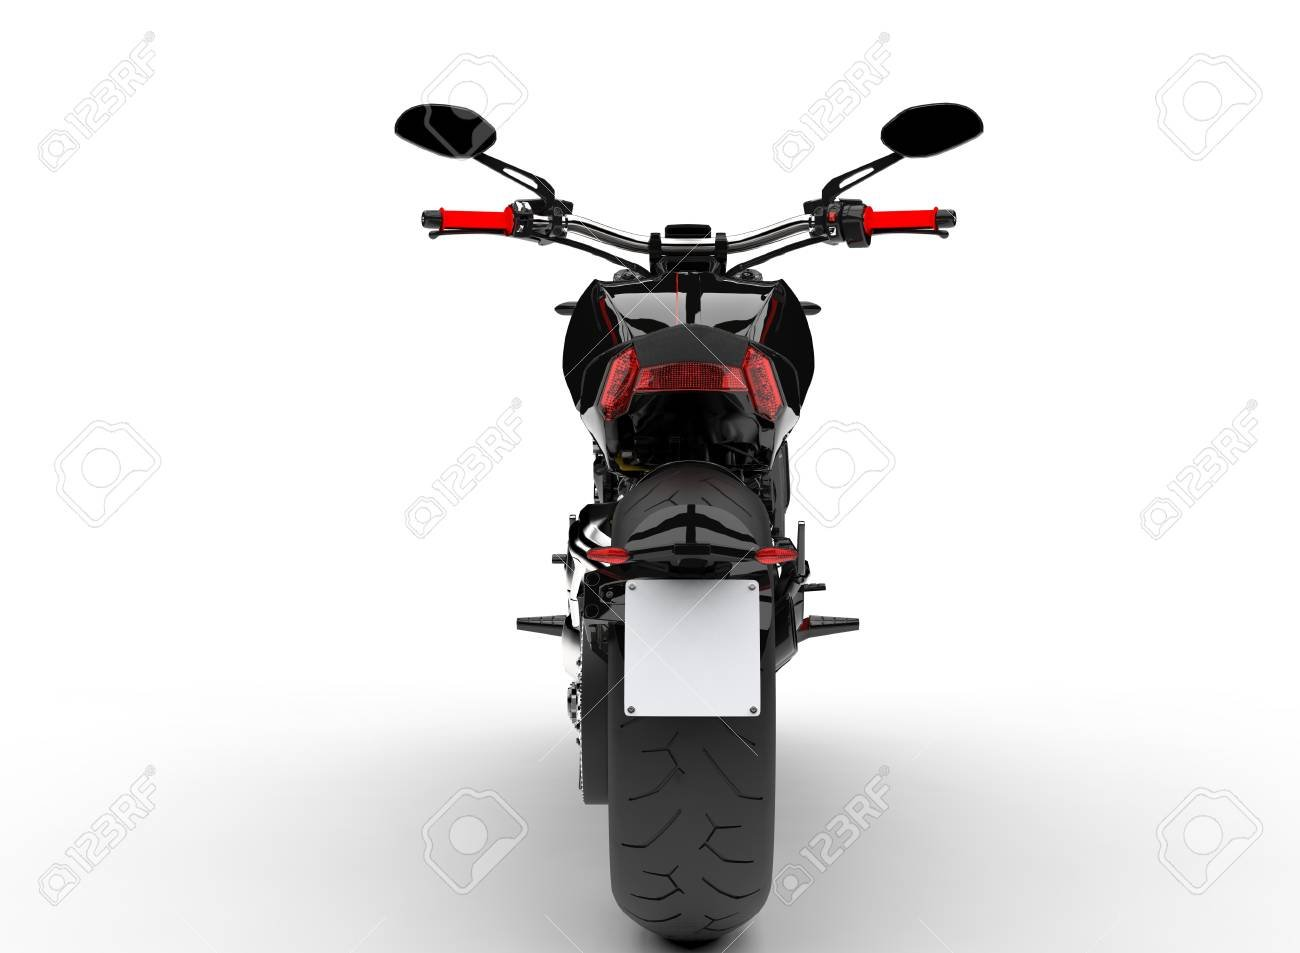motor: (447, 110, 936, 942)
